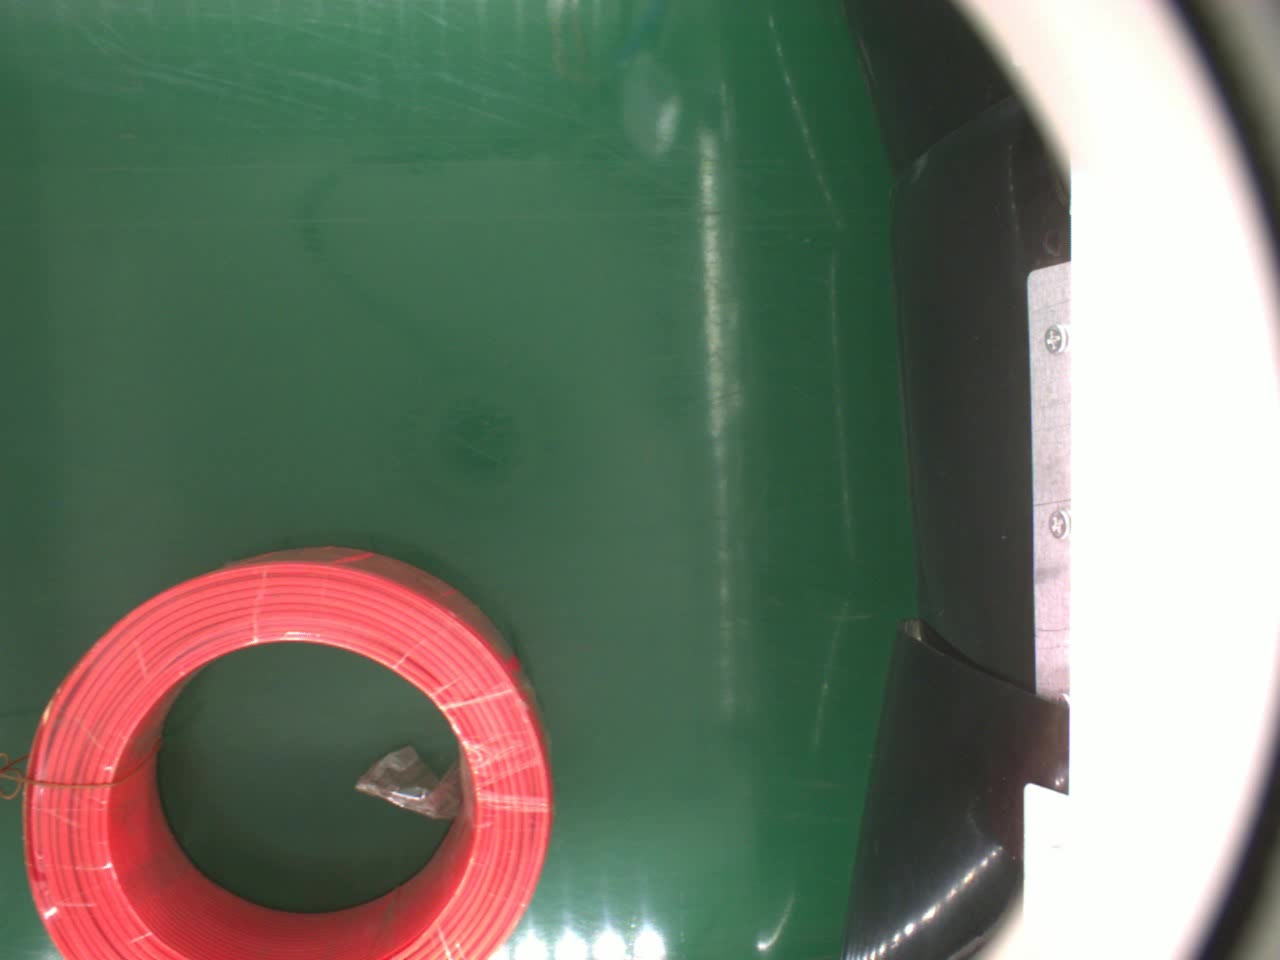red: (21, 542, 562, 960)
